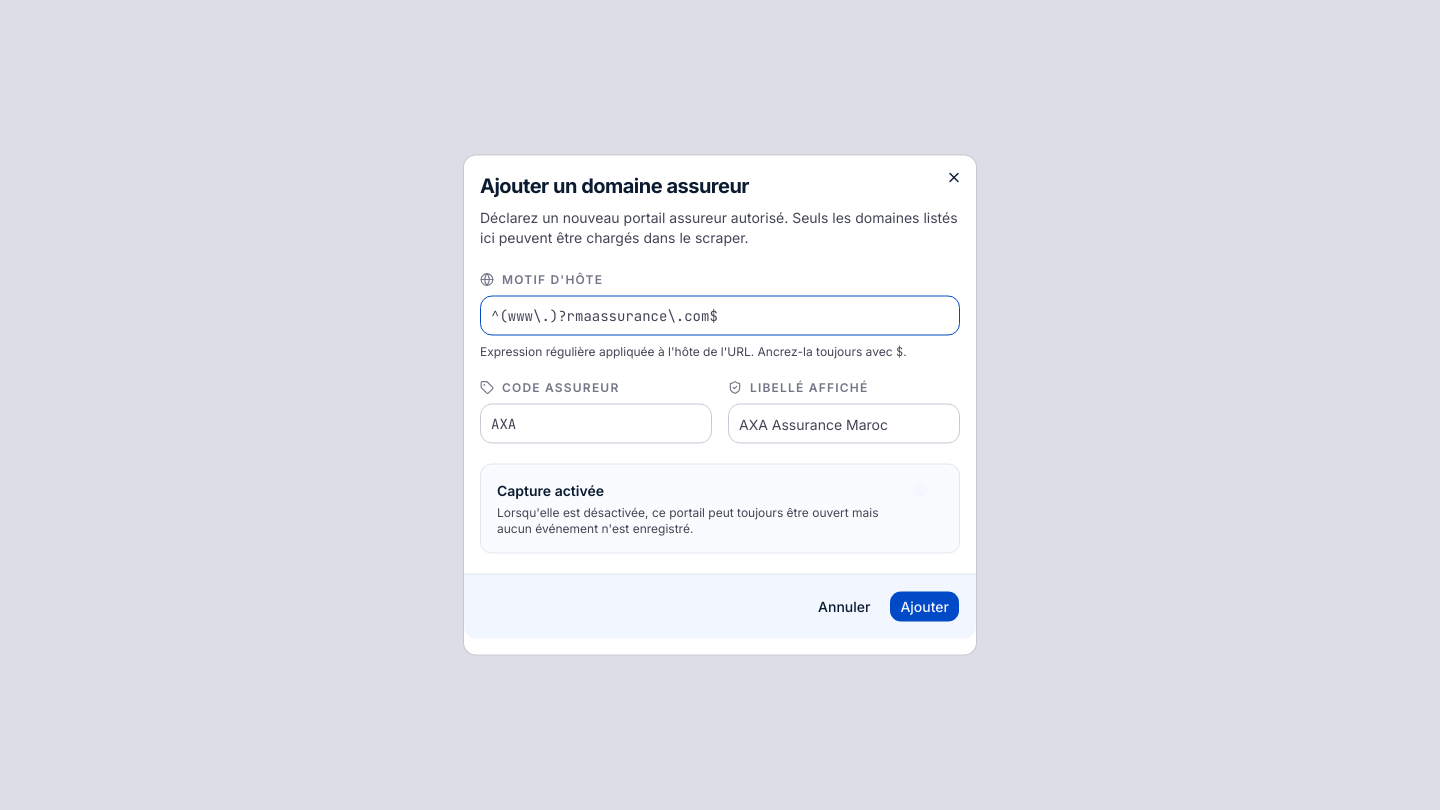
Test: InsurerDomainForm — F5 regex validation › rejects an unanchored host pattern with a French message
The image size is (1440, 810).
Type "rmaassurance\\.com" into the field with placeholder "^(www\\.)?rmaassurance\\.com$" at (720,316), box [480,296,960,336]
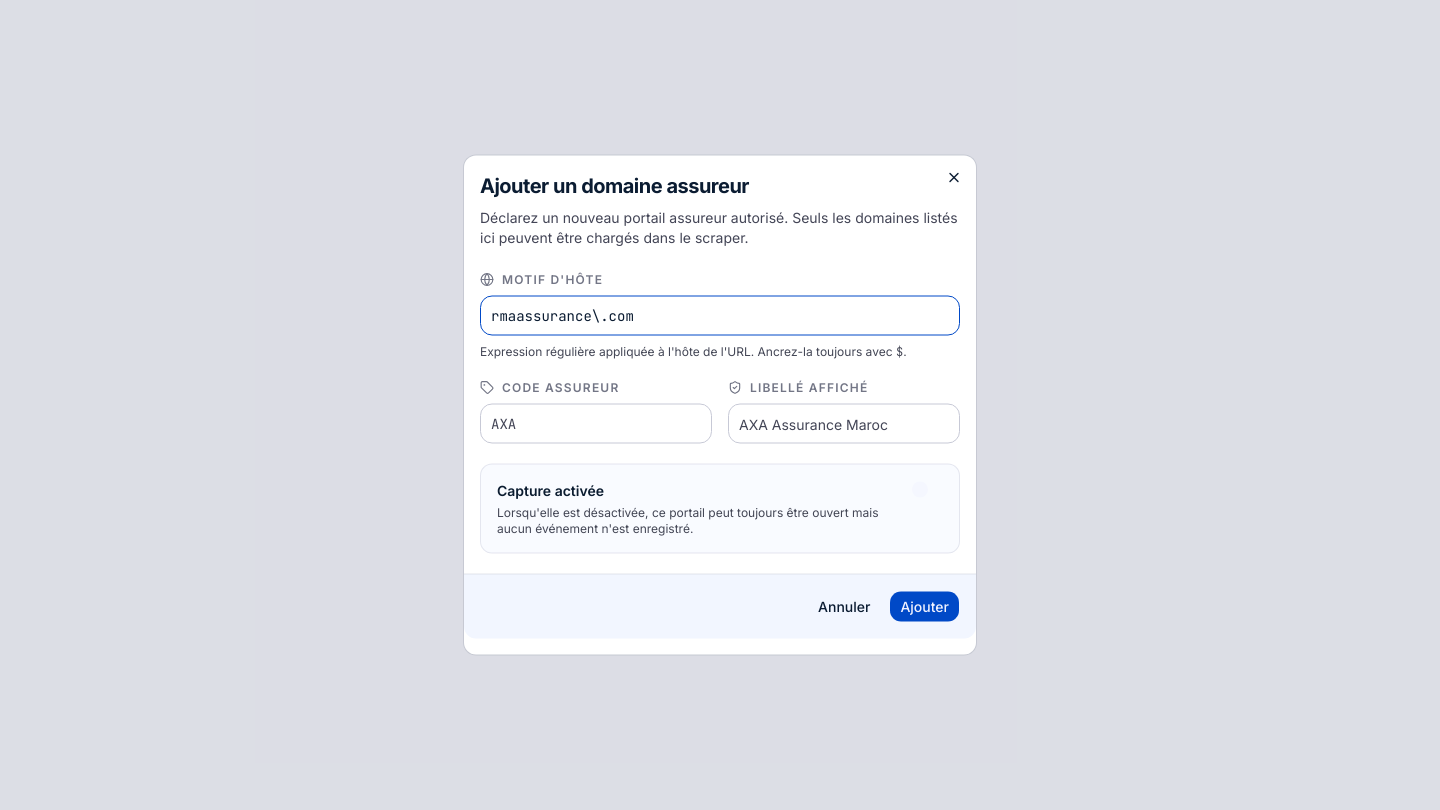
Type "RMA" into the field with placeholder "AXA" at (596,424), box [480,404,712,444]
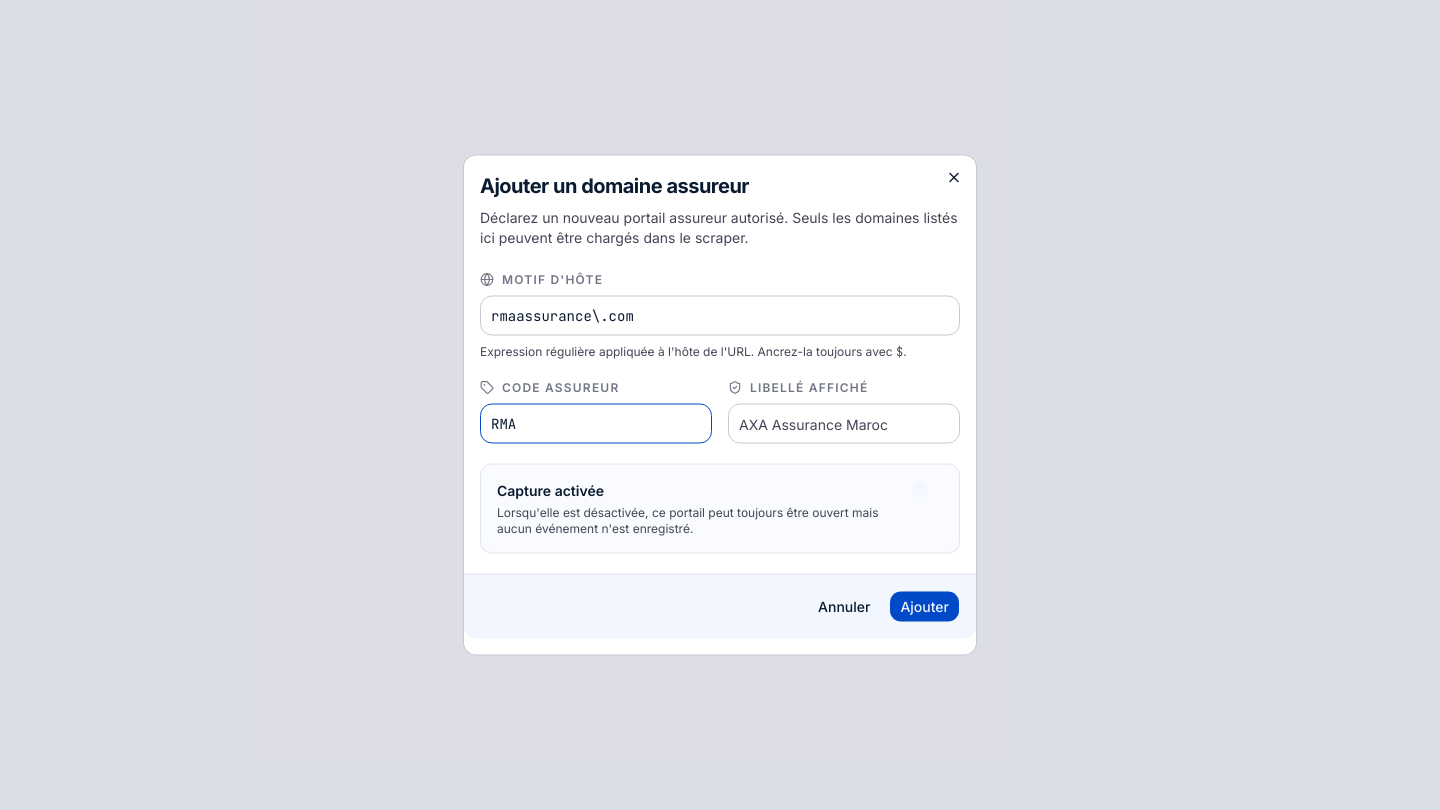
Type "RMA Assurance" into the field with placeholder "AXA Assurance Maroc" at (844,424), box [728,404,960,444]
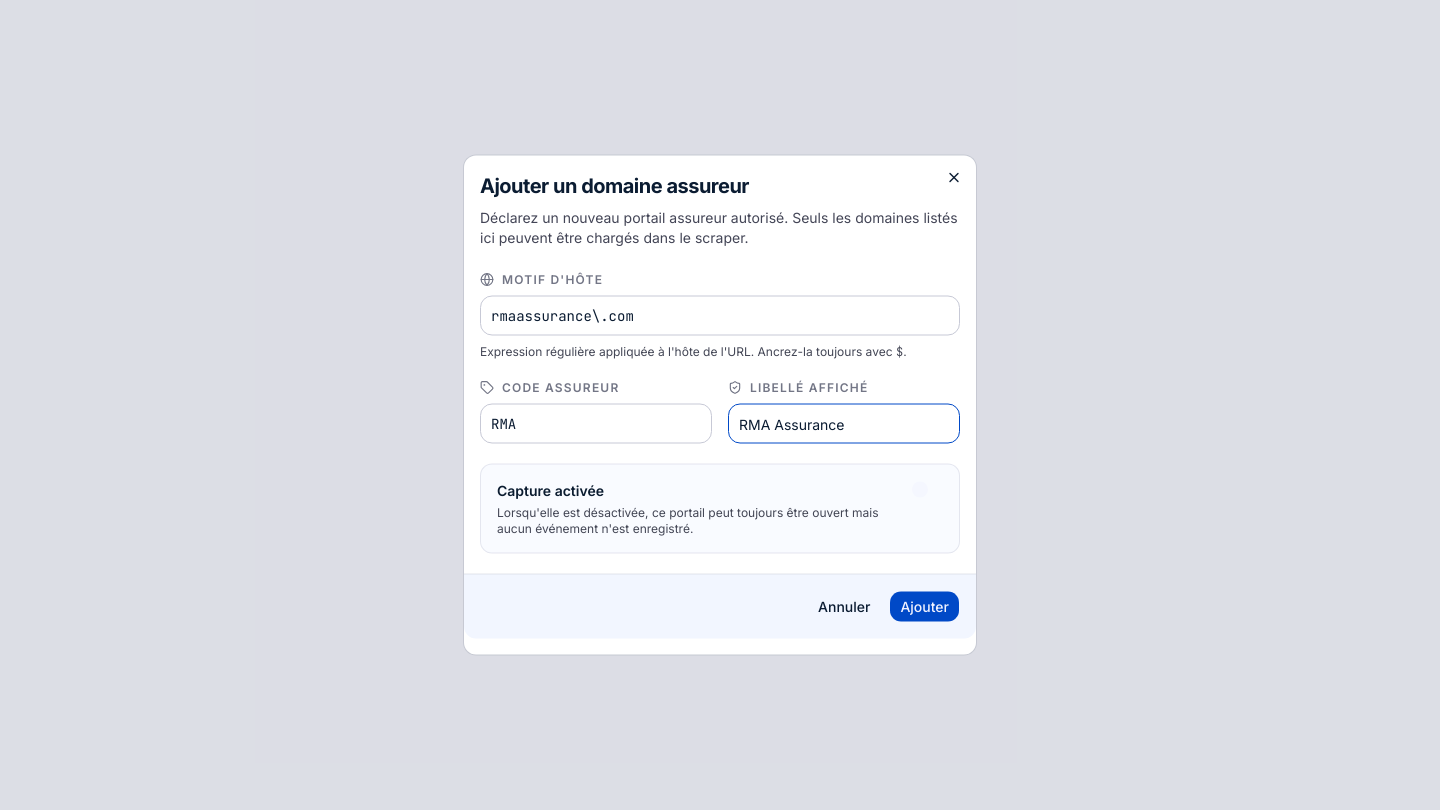
Click the button "Ajouter" at (925,606), box [889,590,960,622]
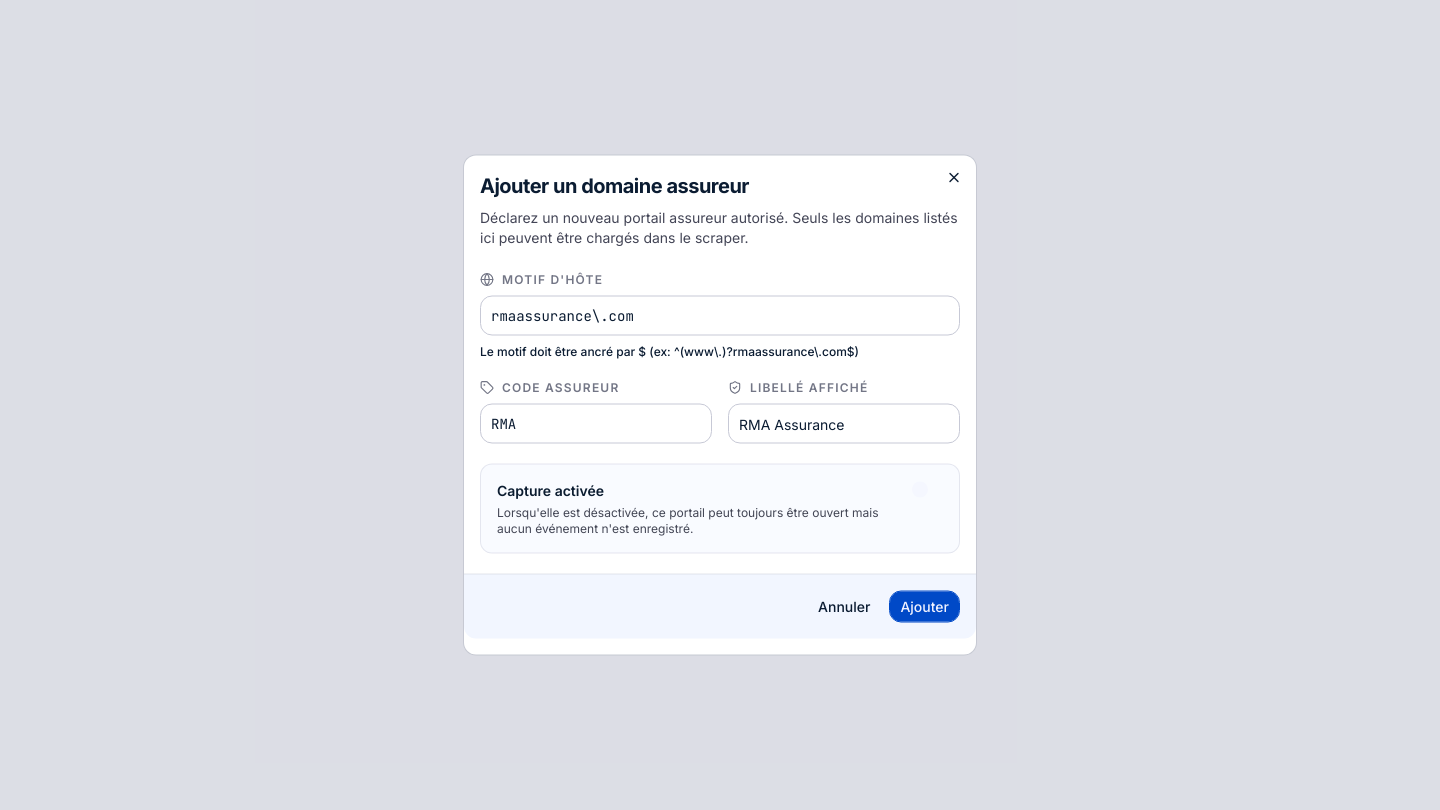
Expected: the text "Le motif doit être ancré par $" is shown, [480,344,859,358]
